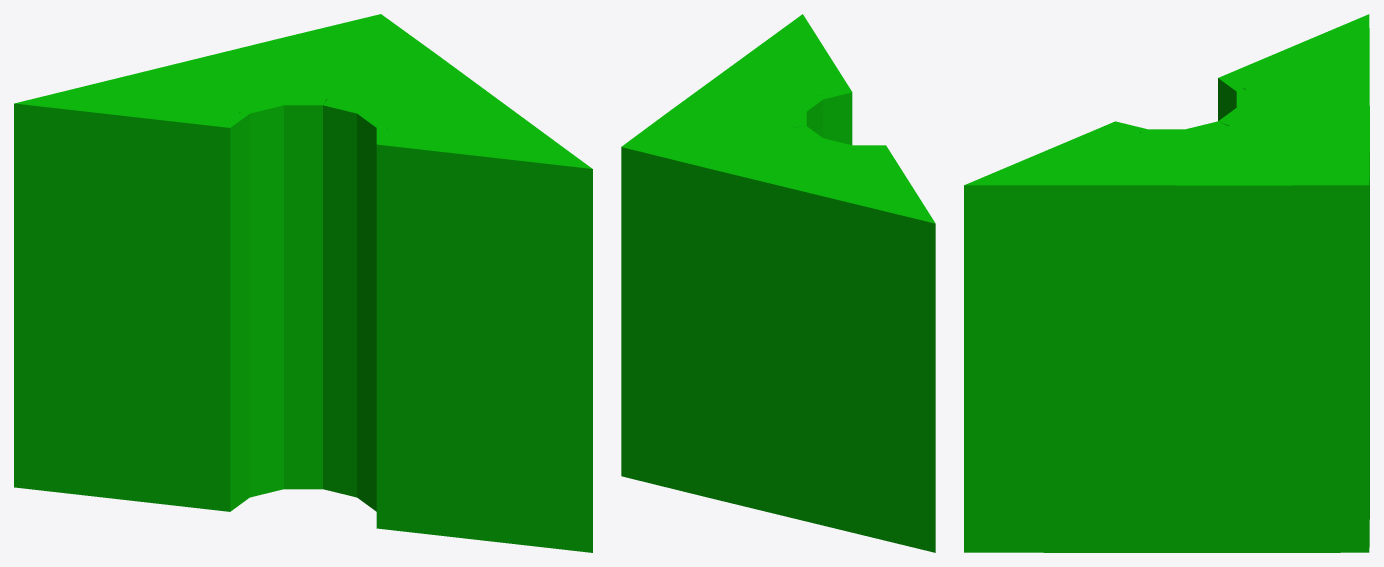
File: UCXKugelbahn.49.fbx
3 renders of one model, left to right at view 1: azimuth 30°, elevation 25°; view 2: azimuth 150°, elevation 25°; view 3: azimuth 270°, elevation 25°, orthographic. The views are drawn at different scales.
Parts seen in each view (by area): view 1: UCX_Kugelbahn.49_low; view 2: UCX_Kugelbahn.49_low; view 3: UCX_Kugelbahn.49_low.
Part boxes in pixels (x1,y1,x2,y2): UCX_Kugelbahn.49_low: (14, 14, 592, 552); UCX_Kugelbahn.49_low: (621, 14, 935, 552); UCX_Kugelbahn.49_low: (964, 14, 1369, 552).
Size of the model in its own units: 0.0501 by 0.05 by 0.0501.
